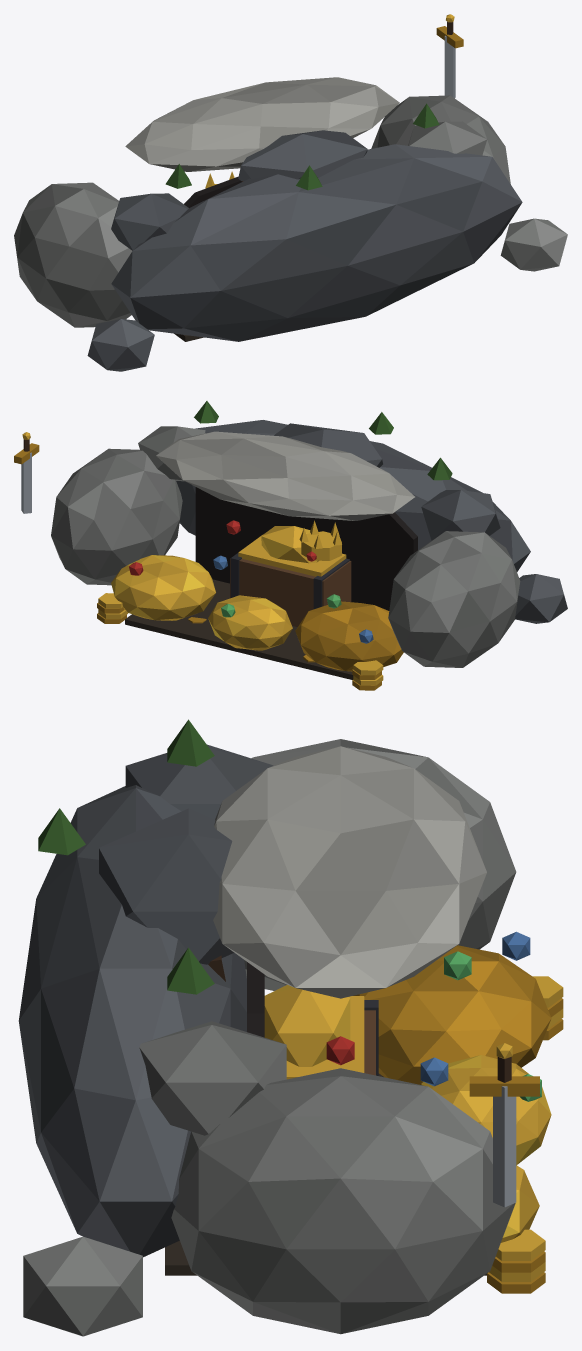
Rendered from Decor_VikingLonghouse_Hoard.fbx.
3 renders of one model, top to bottom at view 1: azimuth 30°, elevation 25°; view 2: azimuth 150°, elevation 25°; view 3: azimuth 270°, elevation 25°, orthographic. The views are drawn at different scales.
Parts seen in each view (by area): view 1: Hoard_Body; view 2: Hoard_Body; view 3: Hoard_Body.
Part boxes in pixels (box(x1,y1,x2,y2)): Hoard_Body: box(14, 14, 567, 371); Hoard_Body: box(14, 401, 567, 690); Hoard_Body: box(18, 719, 563, 1336).
Size of the model in its own units: 17.1 by 6.4 by 9.1.
